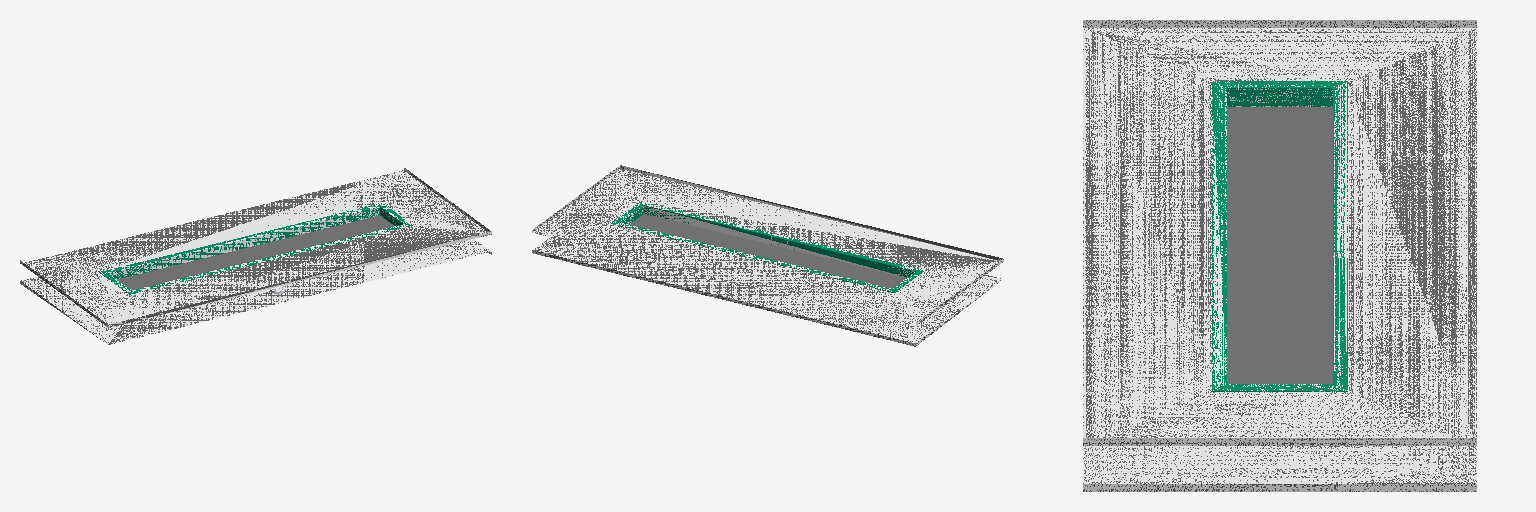
robot.urdf — right-pull-door:
<?xml version="1.0" ?>
<robot name="right-pull-door">
	<link name="base"/>
	<link name="link_0">
		<visual name="out-frame">
			<origin xyz="0 0 0"/>
			<geometry>
				<mesh filename="texture_dae/frame.dae" scale="0.9356035095005297 0.9356035095005297 0.9356035095005297"/>
			</geometry>
		</visual>
		<collision>
			<origin xyz="0 0 0"/>
			<geometry>
				<mesh filename="texture_dae/frame.dae" scale="0.9356035095005297 0.9356035095005297 0.9356035095005297"/>
			</geometry>
		</collision>
	</link>
	<joint name="joint_0" type="fixed">
		<origin rpy="1.570796326794897 0 -1.570796326794897" xyz="0 0 0"/>
		<child link="link_0"/>
		<parent link="base"/>
	</joint>
	<link name="link_1">
		<visual name="surf-board">
			<origin xyz="0.3271797631867954 -0.8167897893167717 0"/>
			<geometry>
				<mesh filename="texture_dae/board.dae" scale="0.9356035095005297 0.9356035095005297 0.9356035095005297"/>
			</geometry>
		</visual>
		<collision>
			<origin xyz="0.3271797631867954 -0.8167897893167717 0"/>
			<geometry>
				<mesh filename="texture_dae/board.dae" scale="0.9356035095005297 0.9356035095005297 0.9356035095005297"/>
			</geometry>
		</collision>
	</link>
	<joint name="joint_1" type="revolute">
		<origin xyz="-0.3271797631867954 0.8167897893167717 0"/>
		<axis xyz="0 -1 0"/>
		<child link="link_1"/>
		<parent link="link_0"/>
		<limit lower="0" upper="1.5079644737231006"/>
	</joint>
	<link name="link_2">
		<visual name="handle">
			<origin xyz="0 0 0"/>
			<geometry>
				<mesh filename="texture_dae/9960003.dae" scale="0.9319476660671626 0.9319476660671626 0.9319476660671626"/>
			</geometry>
		</visual>
		<collision>
			<origin xyz="0 0 0"/>
			<geometry>
				<mesh filename="texture_dae/9960003.dae" scale="0.9319476660671626 0.9319476660671626 0.9319476660671626"/>
			</geometry>
		</collision>
	</link>
	<joint name="joint_2" type="revolute">
		<origin xyz="0.571345649829945 -0.8377169236194582 0.048463961677112935"/>
		<child link="link_2"/>
		<parent link="link_1"/>
		<axis xyz="0 0 1"/>
		<limit lower="0" upper="1.5079644737231006"/>
	</joint>
</robot>

--- Render facts (derived) ---
3 views of the same robot in one strip: view 1: azimuth 30°, elevation 25°; view 2: azimuth 150°, elevation 25°; view 3: azimuth 270°, elevation 25° (orthographic).
Model right-pull-door with 4 links and 3 joints (2 revolute, 1 fixed), rooted at base, posed all joints at 0.
Links seen in each view (by area): view 1: link_1; view 2: link_1; view 3: link_1.
Boxes of the visible links, left/top/right/bottom form: link_1: left=20, top=168, right=491, bottom=344; link_1: left=532, top=165, right=1003, bottom=346; link_1: left=1083, top=20, right=1476, bottom=491.
Size in the robot's own frame: 1.64 by 0.6513 by 0.1157 metres.
Meshes: 3 distinct files referenced, 2 mesh visuals loaded (2 Collada DAE); not drawn: 1 (reference not matched to a file when rendering).
